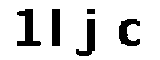1: (14, 8, 44, 51)
I: (49, 6, 66, 48)
c: (118, 16, 146, 50)
j: (75, 5, 102, 60)
